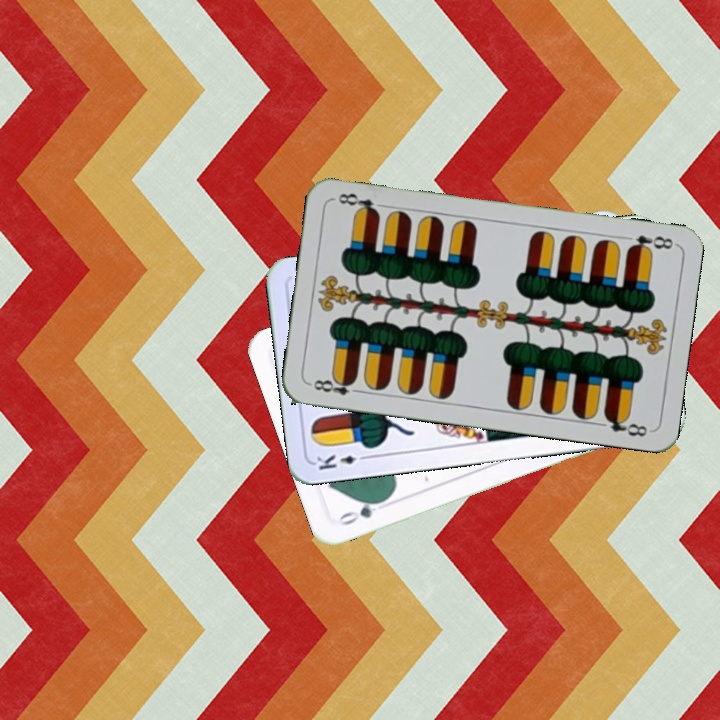E8: (306, 373, 365, 398), (624, 231, 676, 256)
EK: (312, 451, 372, 473)
GO: (335, 494, 389, 528)
